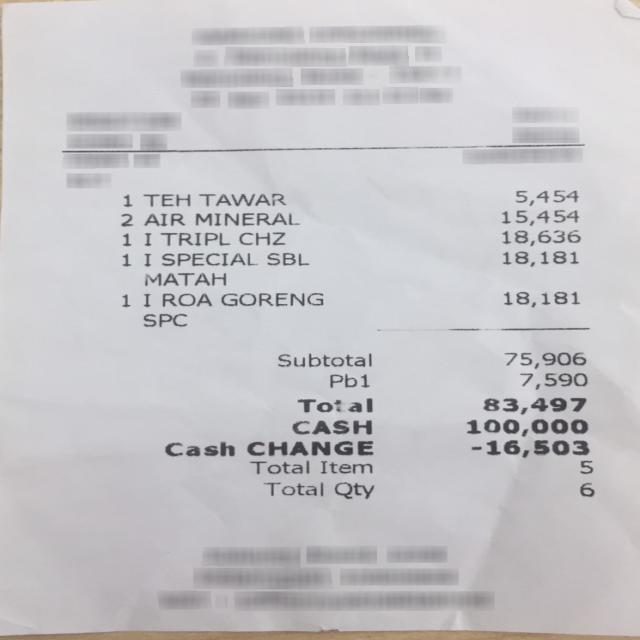text: (466, 416, 586, 436), (471, 438, 587, 456), (245, 440, 370, 456), (482, 396, 584, 414), (220, 292, 320, 306), (159, 251, 258, 265), (194, 212, 297, 225), (500, 208, 577, 225), (276, 352, 369, 366), (504, 351, 584, 367), (502, 229, 579, 245), (199, 192, 286, 206), (503, 291, 579, 307), (291, 419, 370, 434), (502, 250, 576, 266), (512, 188, 576, 206), (143, 272, 224, 286), (157, 231, 230, 246), (520, 372, 586, 388), (163, 441, 232, 456), (297, 398, 370, 412), (262, 480, 322, 496), (159, 291, 211, 307), (248, 460, 310, 473), (140, 193, 192, 207), (320, 460, 372, 474), (332, 481, 372, 499), (237, 231, 284, 244), (329, 373, 369, 388), (142, 313, 184, 326), (143, 213, 183, 226), (266, 252, 306, 264), (576, 458, 593, 475), (118, 212, 134, 227), (119, 231, 134, 245), (579, 482, 594, 496), (120, 192, 133, 206), (118, 252, 131, 266), (140, 251, 151, 266), (141, 231, 150, 247), (121, 293, 131, 307), (141, 291, 149, 307)
